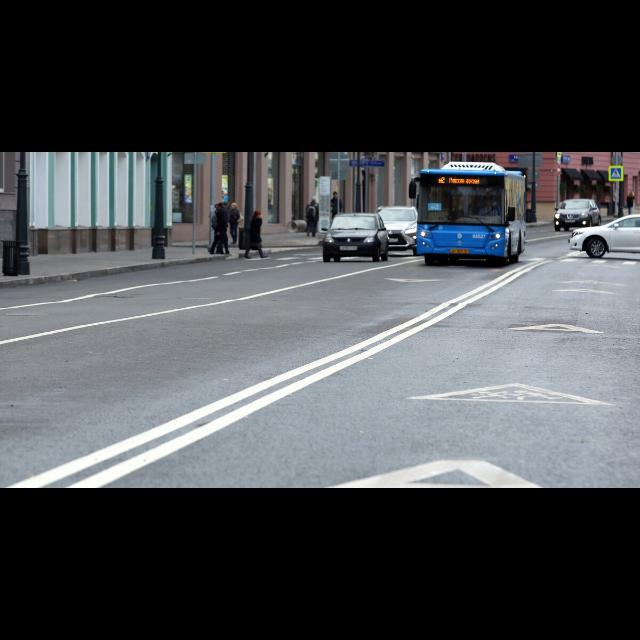road: (0, 229, 639, 487)
